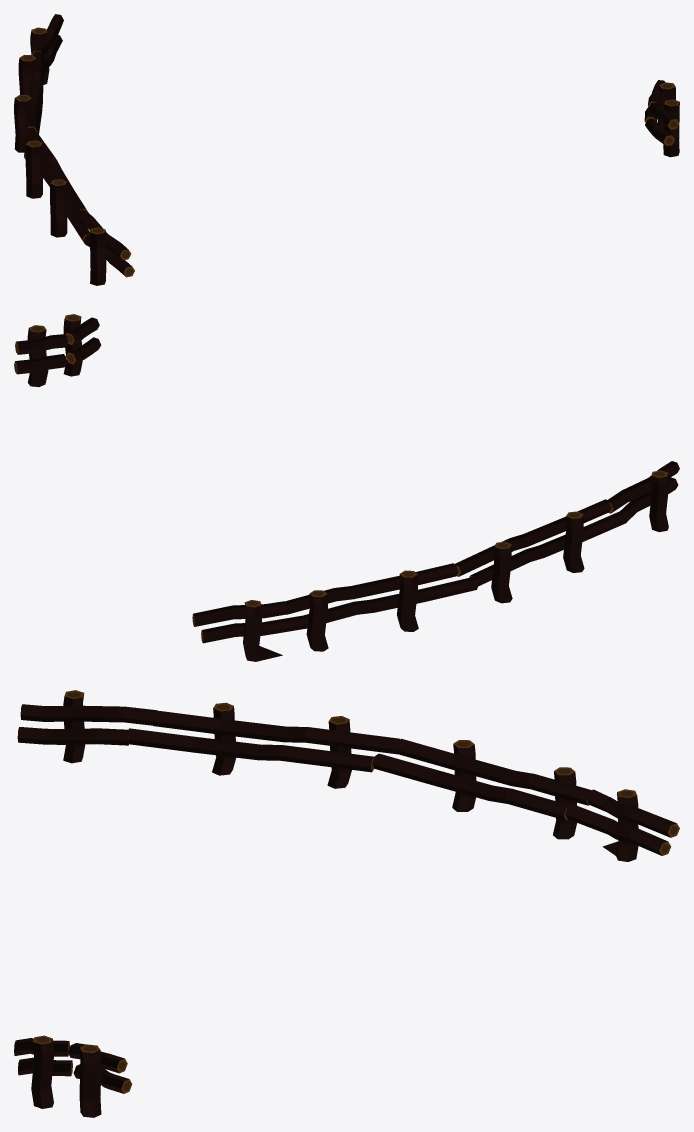
Rendered from rail45_1.fbx.
3 views of the same model, one above another, from view 1: azimuth 30°, elevation 25°; view 2: azimuth 150°, elevation 25°; view 3: azimuth 270°, elevation 25° (orthographic). The views are drawn at different scales.
Visible parts, largest first — view 1: rail45_1_1, rail45_2_1; view 2: rail45_1_1, rail45_2_1; view 3: rail45_1_1, rail45_2_1.
Part boxes in pixels (x1,y1,x2,y2): rail45_1_1: (14,14,134,285); rail45_2_1: (644,80,679,157); rail45_1_1: (192,461,679,661); rail45_2_1: (14,314,101,386); rail45_1_1: (17,690,679,861); rail45_2_1: (14,1035,132,1117).
Size of the model in its own units: 838 by 646 by 68.87.
